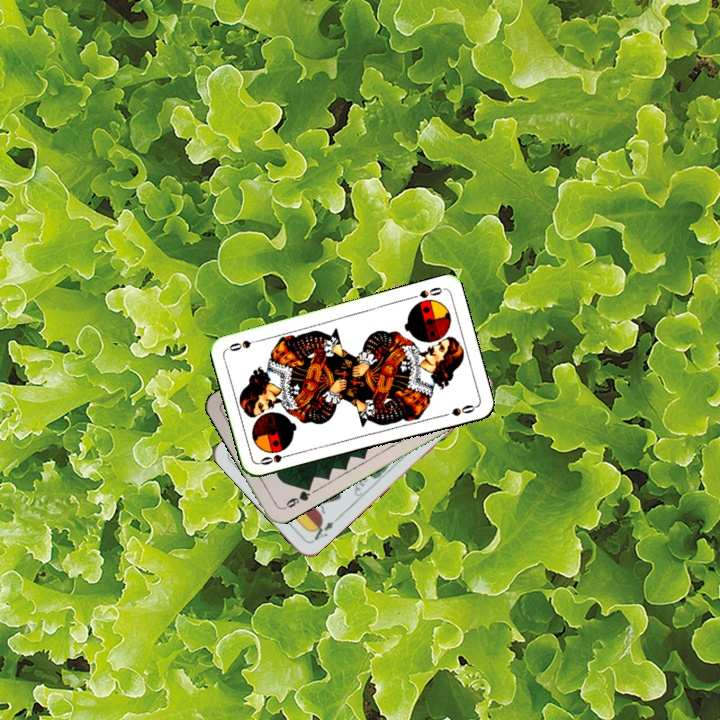EA: (307, 513, 342, 545)
G9: (278, 483, 313, 512)
SO: (256, 449, 296, 468), (406, 283, 446, 302)
